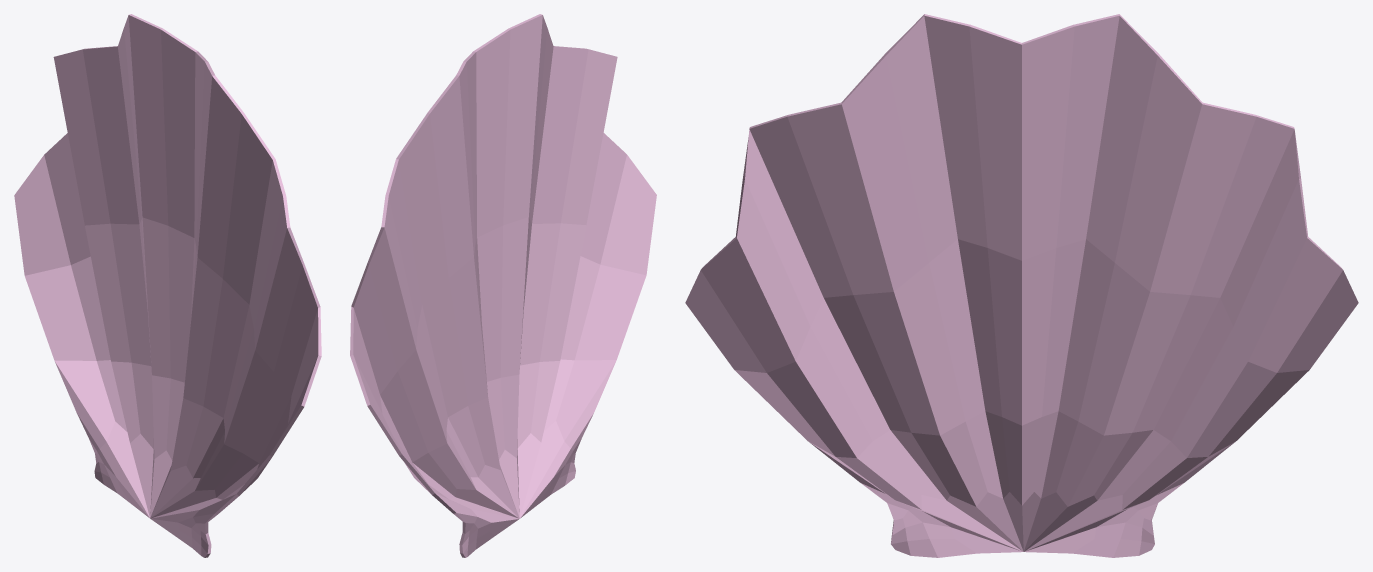
Rendered from schelp (1).fbx.
3 renders of one model, left to right at view 1: azimuth 30°, elevation 25°; view 2: azimuth 150°, elevation 25°; view 3: azimuth 270°, elevation 25°, orthographic. The views are drawn at different scales.
Visible parts, largest first — view 1: Plane; view 2: Plane; view 3: Plane.
Part boxes in pixels (bbox=[...]): Plane: bbox=[14, 14, 321, 557]; Plane: bbox=[350, 14, 656, 557]; Plane: bbox=[685, 14, 1358, 557].
Size of the model in its own units: 0.1756 by 1.51 by 1.67.
